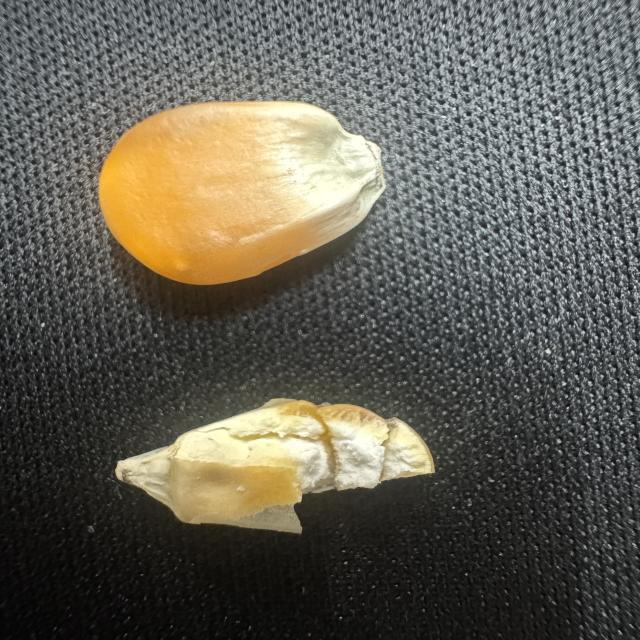Bad-Seed: (74, 391, 450, 545)
Good-Seed: (90, 95, 402, 298)
